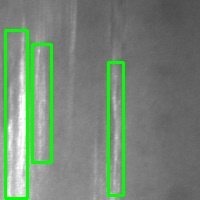scratches: (5, 30, 27, 198), (32, 44, 51, 162), (108, 62, 123, 195)
